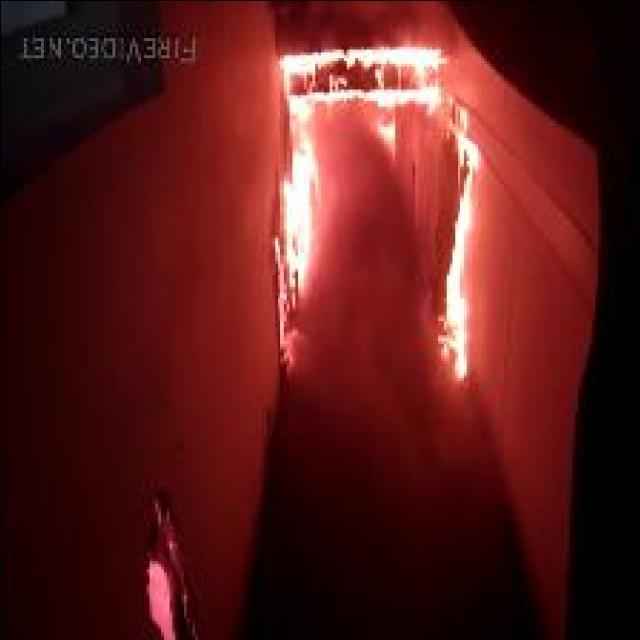Fire: (270, 43, 447, 354), (437, 105, 477, 382)
